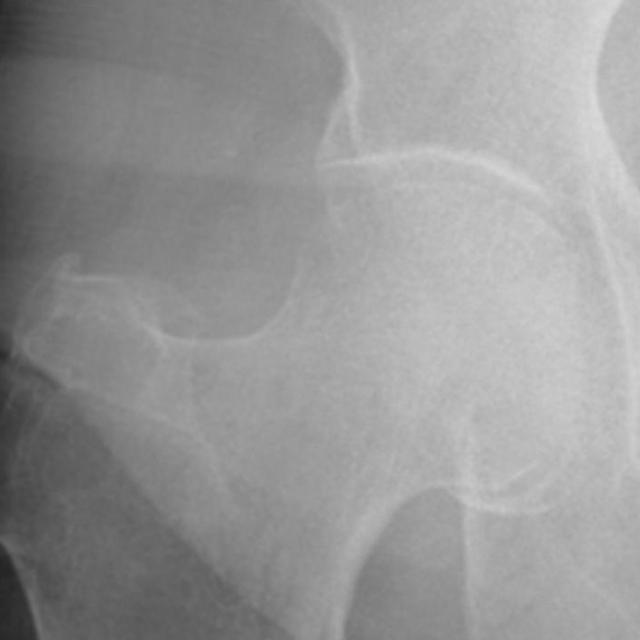Fitted_femural_head: (318, 180, 432, 318)
